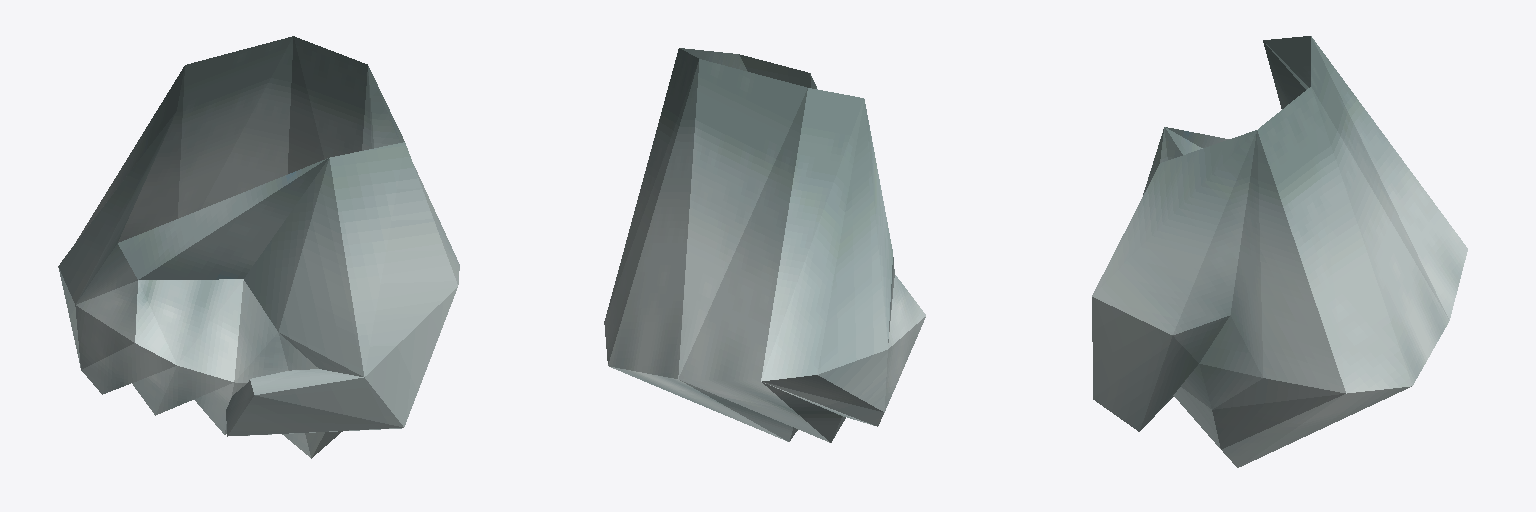
The picture shows the model from 3 angles: view 1: azimuth 30°, elevation 25°; view 2: azimuth 150°, elevation 25°; view 3: azimuth 270°, elevation 25°; orthographic projection.
Visible parts, largest first — view 1: Pierna_izquierda022; view 2: Pierna_izquierda022; view 3: Pierna_izquierda022.
Boxes of the visible parts, box(x1,y1,x2,y2) form: Pierna_izquierda022: box(58, 36, 459, 458); Pierna_izquierda022: box(604, 48, 925, 442); Pierna_izquierda022: box(1092, 36, 1467, 467).
Bounding box in the file's own units: 0.9674 × 1.2 × 1.05.
1 materials, 1 textured.